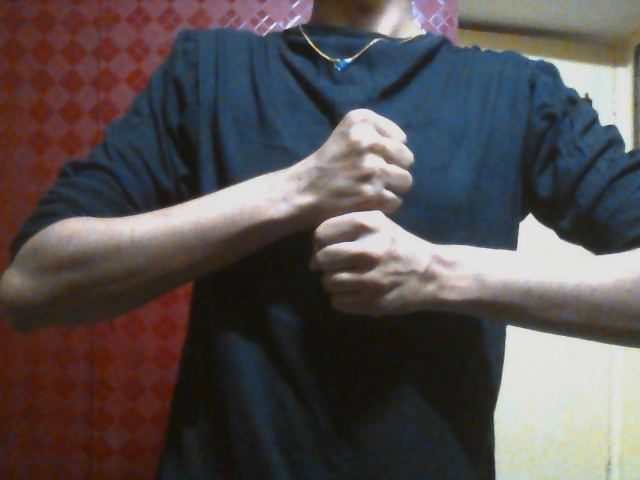G: (303, 107, 426, 318)
